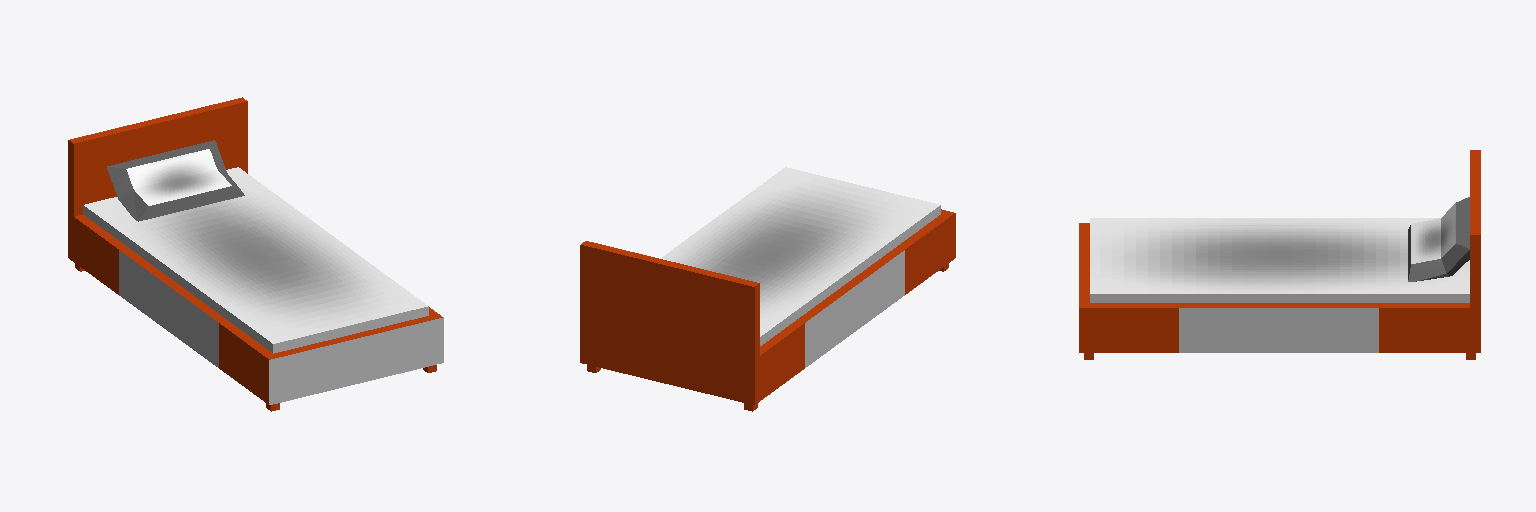
3 views of the same model, side by side, from view 1: azimuth 30°, elevation 25°; view 2: azimuth 150°, elevation 25°; view 3: azimuth 270°, elevation 25° (orthographic).
Visible parts, largest first — view 1: bed_1; view 2: bed_1; view 3: bed_1.
Boxes of the visible parts, x1,y1,x2,y2 form: bed_1: [68, 97, 443, 411]; bed_1: [580, 167, 955, 411]; bed_1: [1079, 150, 1480, 359].
Size of the model in its own units: 4 by 2.8 by 8.
5 materials, 1 textured.